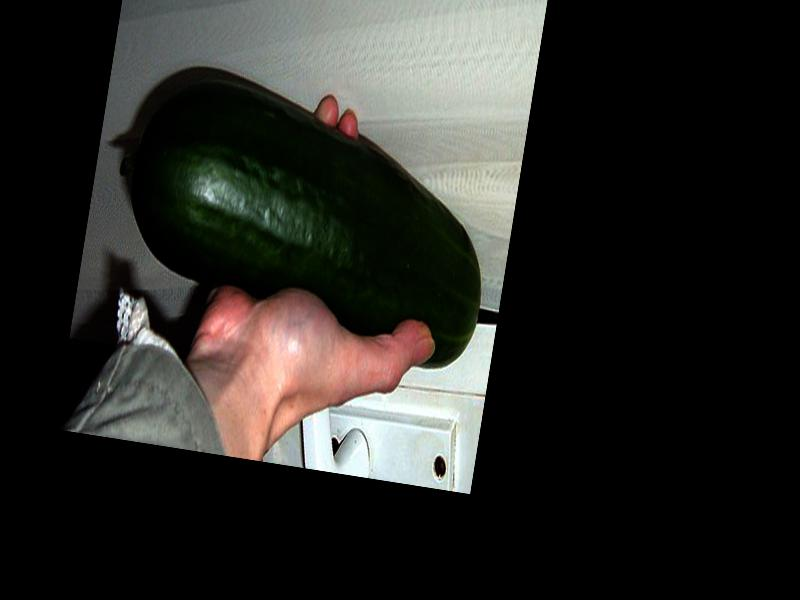Cucumber: (96, 57, 509, 372)
